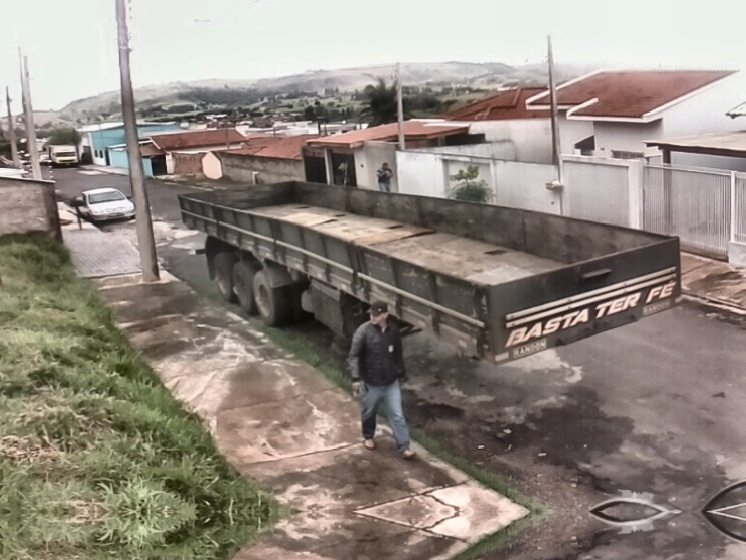person: (346, 300, 421, 460), (374, 161, 394, 194)
